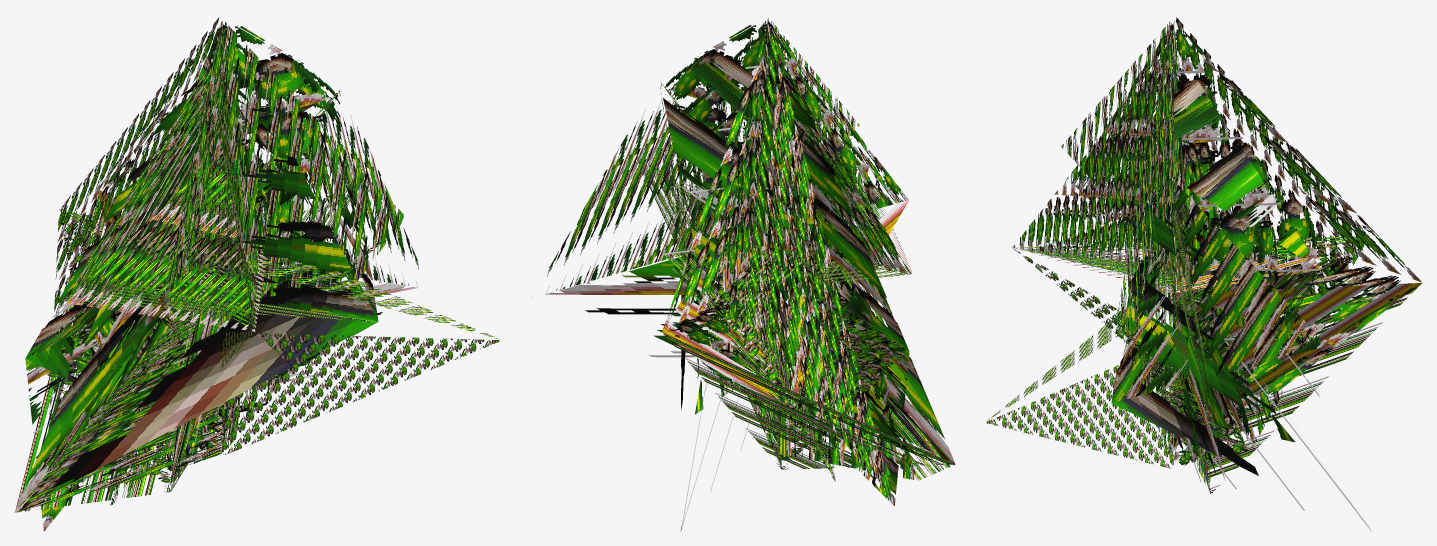
Rendered from assets0A_model_013.obj.
3 views of the same model, side by side, from view 1: azimuth 30°, elevation 25°; view 2: azimuth 150°, elevation 25°; view 3: azimuth 270°, elevation 25° (orthographic). The views are drawn at different scales.
Visible parts, largest first — view 1: assets0A_model_013; view 2: assets0A_model_013; view 3: assets0A_model_013.
Boxes of the visible parts, bbox=[...] form: assets0A_model_013: bbox=[14, 17, 499, 531]; assets0A_model_013: bbox=[532, 18, 955, 531]; assets0A_model_013: bbox=[986, 17, 1421, 531].
Bounding box in the file's own units: 72.93 × 79.12 × 60.72.
Materials: 1 (1 with a texture image).
